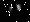person: (4, 4, 12, 15), (17, 5, 22, 11)
